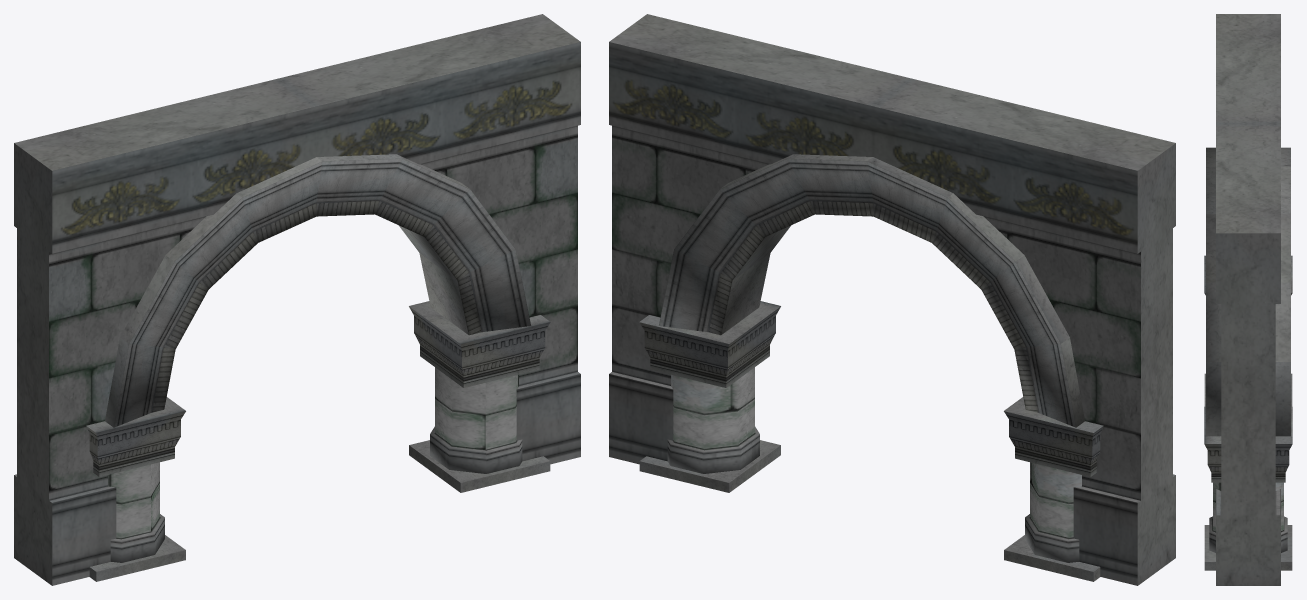
Rendered from door_arched_01_001.glb.
3 views of the same model, side by side, from view 1: azimuth 30°, elevation 25°; view 2: azimuth 150°, elevation 25°; view 3: azimuth 270°, elevation 25° (orthographic). The views are drawn at different scales.
Visible parts, largest first — view 1: door_arched_01.001; view 2: door_arched_01.001; view 3: door_arched_01.001.
Boxes of the visible parts, left/top/right/bottom form: door_arched_01.001: left=14, top=14, right=580, bottom=585; door_arched_01.001: left=609, top=14, right=1175, bottom=585; door_arched_01.001: left=1204, top=14, right=1292, bottom=585.
Bounding box in the file's own units: 4 × 3 × 0.6817.
Materials: 1 (1 with a texture image).
